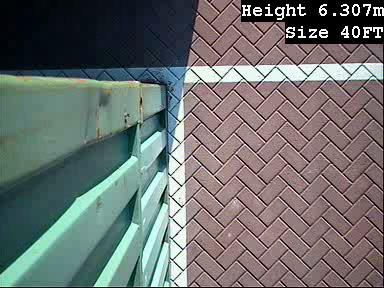groundmarker_2: (57, 70, 149, 123)
